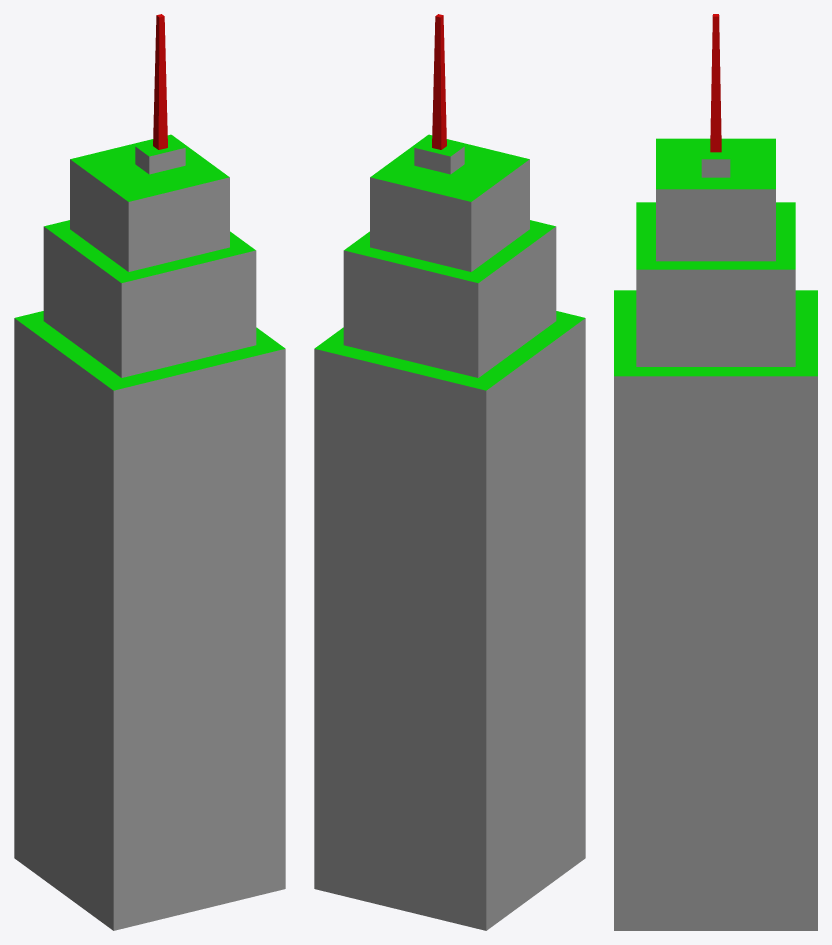
Rendered from Building_Square_Stacked.fbx.
3 renders of one model, left to right at view 1: azimuth 30°, elevation 25°; view 2: azimuth 150°, elevation 25°; view 3: azimuth 270°, elevation 25°, orthographic. The views are drawn at different scales.
Visible parts, largest first — view 1: pCube1, pCube3, pCube4, pCube6, pCube5; view 2: pCube1, pCube3, pCube4, pCube6, pCube5; view 3: pCube1, pCube3, pCube4, pCube6, pCube5.
Boxes of the visible parts, x1,y1,x2,y2 form: pCube1: (14,311,285,930); pCube3: (43,220,256,377); pCube4: (70,134,229,271); pCube6: (153,14,167,149); pCube5: (135,137,185,174); pCube1: (314,311,585,930); pCube3: (343,220,556,377); pCube4: (370,134,529,271); pCube6: (432,14,446,149); pCube5: (414,137,464,174); pCube1: (614,290,817,930); pCube3: (636,202,795,366); pCube4: (656,138,775,261); pCube6: (710,14,721,152); pCube5: (701,141,730,177).
Size of the model in its own units: 1000 by 4749 by 1000.
